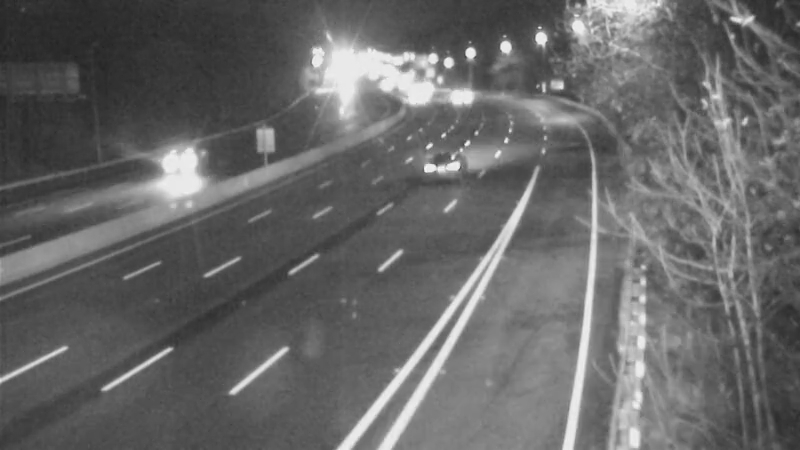vehicle: (406, 128, 486, 208), (135, 121, 215, 201), (434, 71, 484, 121)
